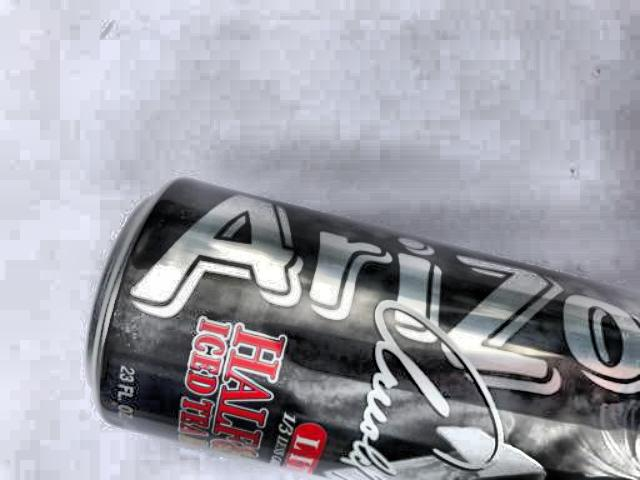Bottles: (50, 146, 640, 479)
